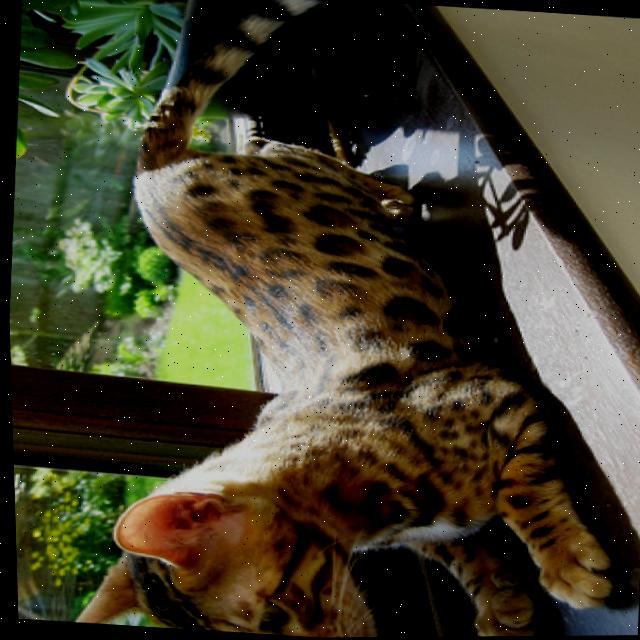Bengal: (46, 0, 640, 640)
